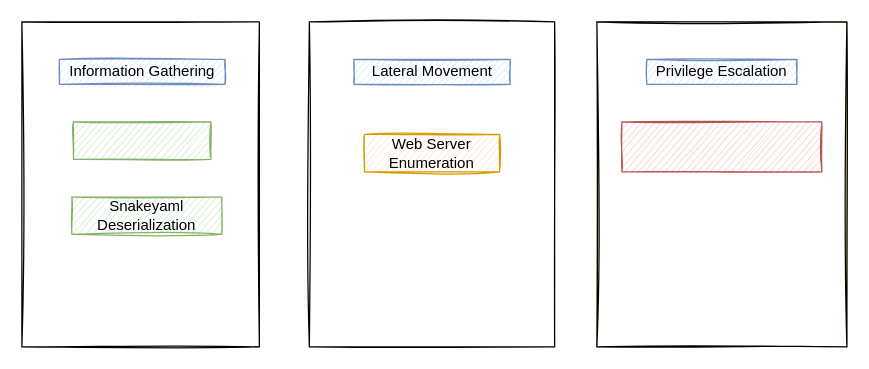
This 869x369 diagram has some shape labels left out. Each missing label, with the centre of its shape:
"Golang Web Assembly Exploitation" belongs at (721,146).
"Web Enumeration" belongs at (141,140).
